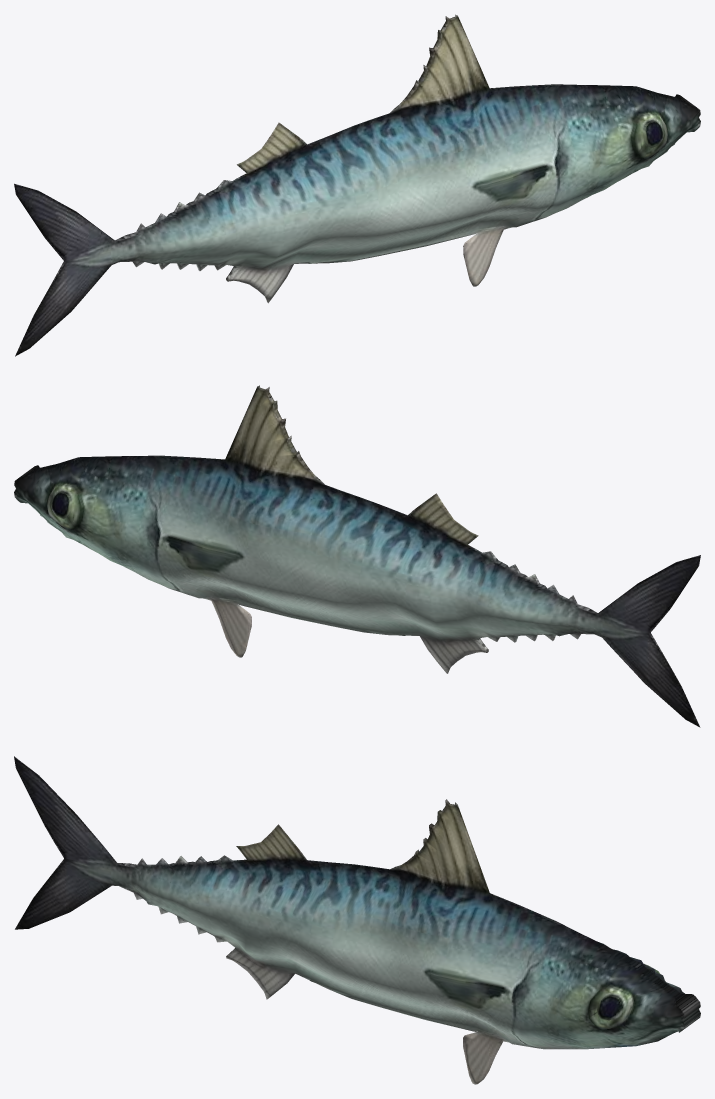
File: jurel.glb
3 renders of one model, top to bottom at view 1: azimuth 30°, elevation 25°; view 2: azimuth 150°, elevation 25°; view 3: azimuth 330°, elevation 25°, orthographic.
Parts seen in each view (by area): view 1: pez; view 2: pez; view 3: pez.
Part boxes in pixels (x1,y1,x2,y2): pez: (14,14,700,356); pez: (14,385,700,727); pez: (14,756,700,1084).
Bounding box in the file's own units: 1 × 0.3905 × 0.13.
1 material, 1 textured.
